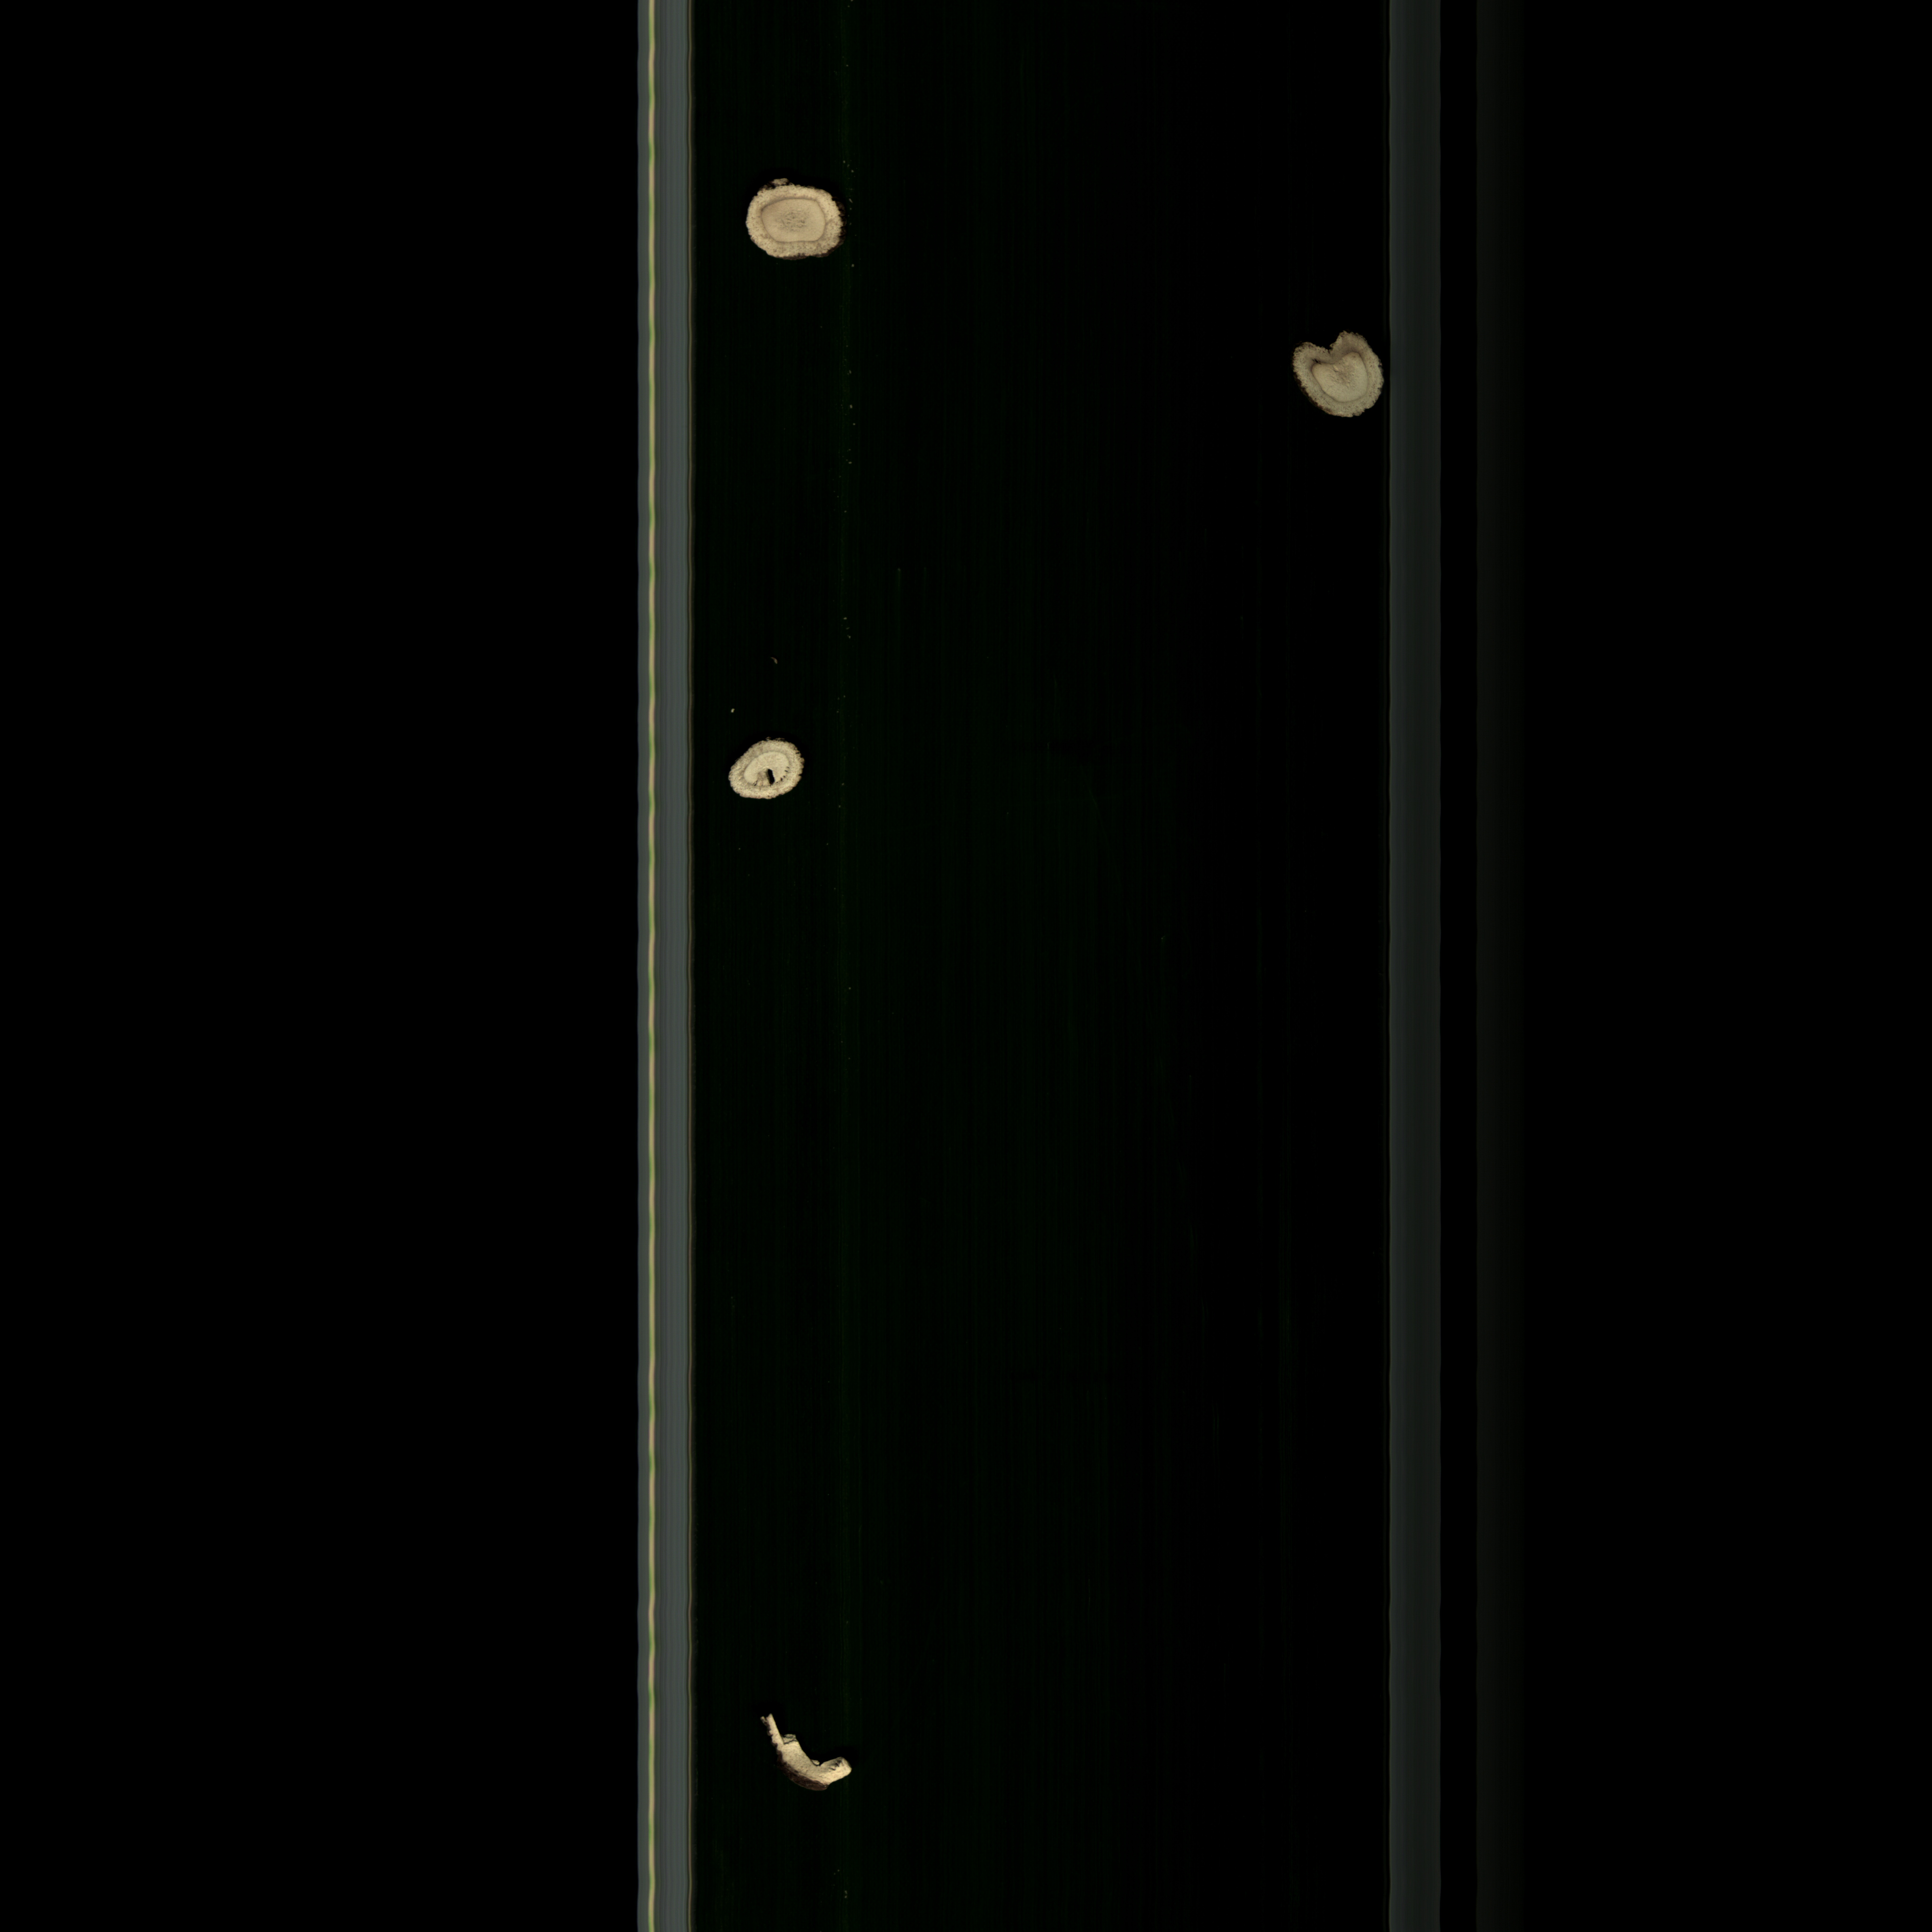debris: (748, 1709, 856, 1799)
hole: (720, 736, 817, 809)
moldy: (1283, 320, 1387, 430)
